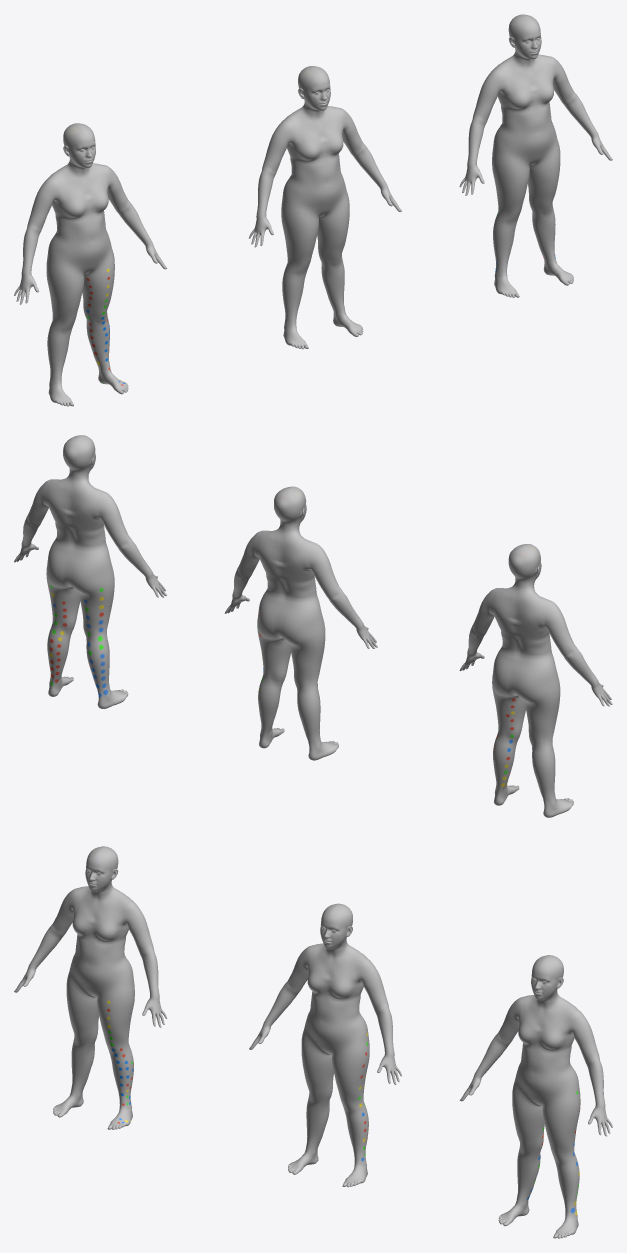
3 views of the same model, one above another, from view 1: azimuth 30°, elevation 25°; view 2: azimuth 150°, elevation 25°; view 3: azimuth 330°, elevation 25° (orthographic).
Parts seen in each view (by area): view 1: Female 60in 130lbs.002, Female 60in 130lbs, Female 60in 130lbs.001; view 2: Female 60in 130lbs.001, Female 60in 130lbs, Female 60in 130lbs.002; view 3: Female 60in 130lbs.002, Female 60in 130lbs.001, Female 60in 130lbs.
Part boxes in pixels (left/top/right/bottom): Female 60in 130lbs.002: left=14, top=123, right=167, bottom=406; Female 60in 130lbs: left=249, top=66, right=401, bottom=349; Female 60in 130lbs.001: left=459, top=14, right=612, bottom=297; Female 60in 130lbs.001: left=14, top=435, right=166, bottom=708; Female 60in 130lbs: left=224, top=486, right=377, bottom=760; Female 60in 130lbs.002: left=459, top=544, right=612, bottom=817; Female 60in 130lbs.002: left=14, top=846, right=167, bottom=1129; Female 60in 130lbs.001: left=459, top=955, right=612, bottom=1238; Female 60in 130lbs: left=249, top=903, right=401, bottom=1187.
Bounding box in the file's own units: 10.76 × 4.58 × 0.9768.
3 materials, 3 textured.
